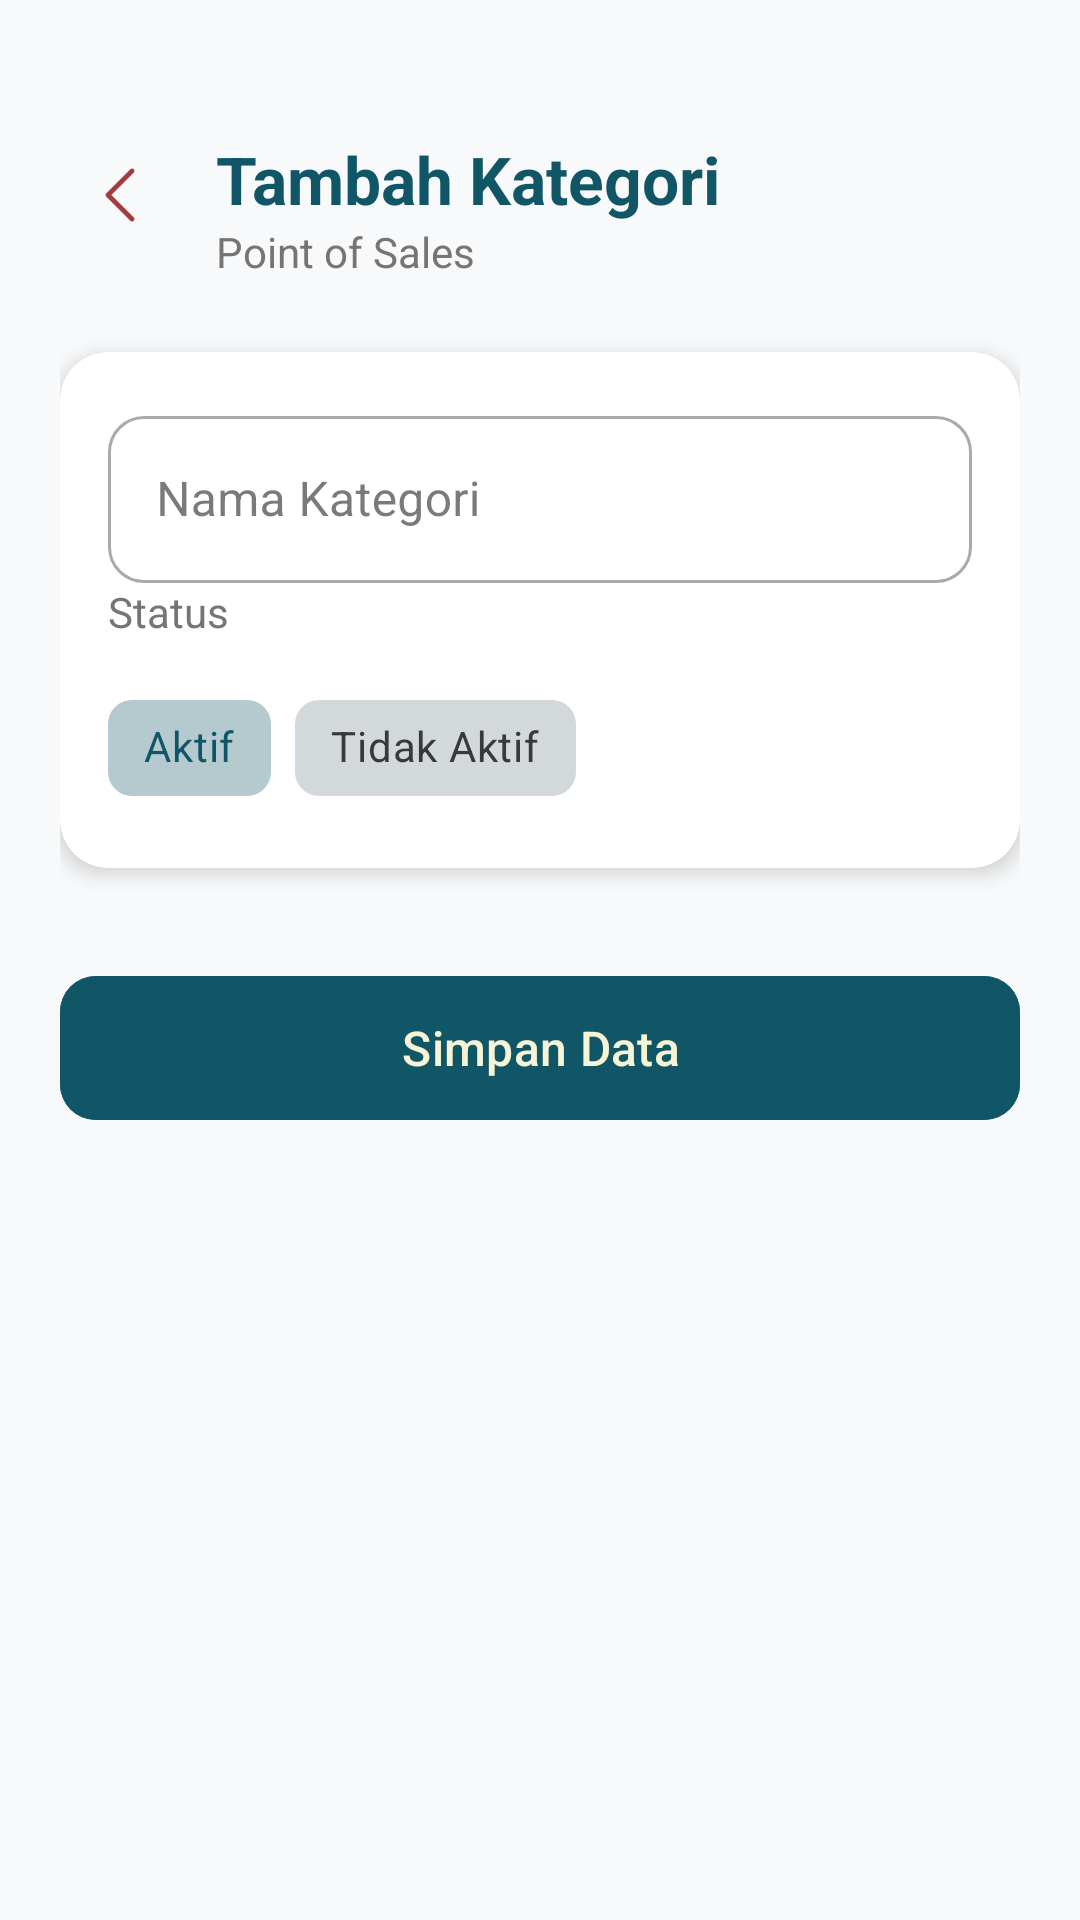

Icon bounding boxes for this 1080*1920 phone screenshot, format region(x1, y1, x2, y2):
back: region(105, 168, 135, 222)
